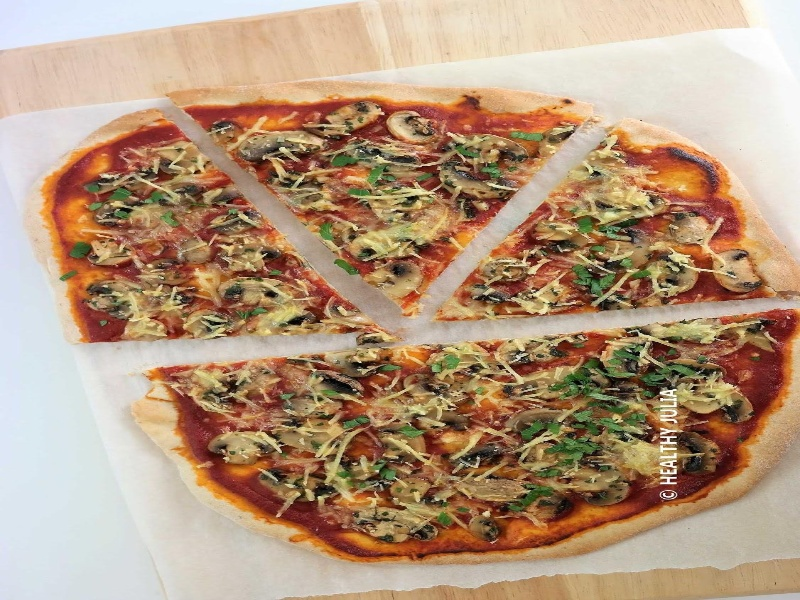champignon: (199, 428, 291, 472), (706, 244, 776, 299), (212, 273, 300, 311), (359, 256, 426, 297), (382, 109, 445, 147)
